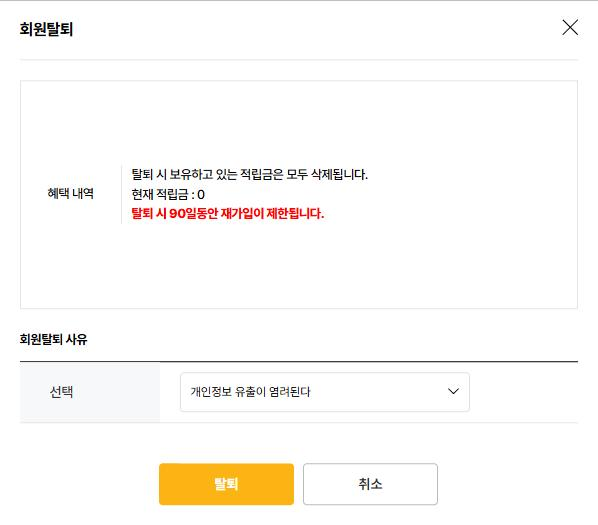button: (159, 462, 295, 505), (305, 462, 439, 503), (558, 12, 588, 46)
checkbox: (182, 371, 470, 411)
